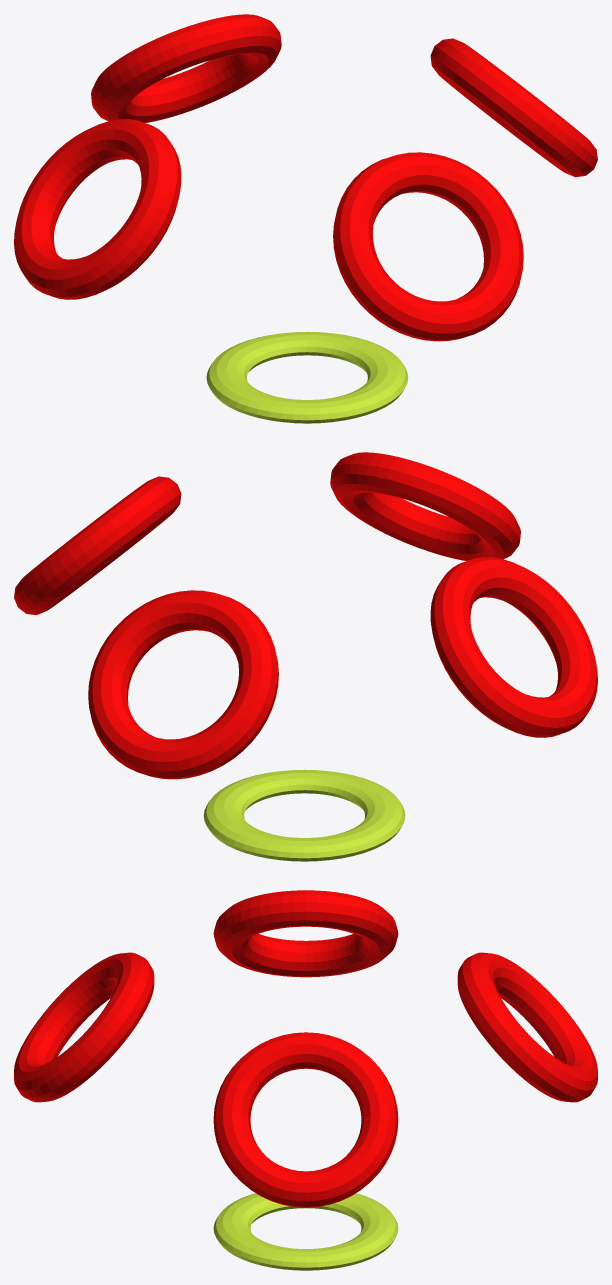
File: orbit_45_4.glb
3 views of the same model, one above another, from view 1: azimuth 30°, elevation 25°; view 2: azimuth 150°, elevation 25°; view 3: azimuth 270°, elevation 25° (orthographic). The views are drawn at different scales.
Visible parts, largest first — view 1: Torus.002, Torus.004, Torus.001, Torus, Torus.003; view 2: Torus.001, Torus.004, Torus.002, Torus, Torus.003; view 3: Torus.003, Torus.004, Torus.001, Torus.002, Torus.
Part boxes in pixels (box(x1,y1,x2,y2)): Torus.002: box(333, 152, 523, 341); Torus.004: box(14, 119, 181, 299); Torus.001: box(91, 14, 281, 122); Torus: box(206, 331, 408, 423); Torus.003: box(430, 38, 597, 177); Torus.001: box(88, 590, 278, 779); Torus.004: box(430, 557, 597, 737); Torus.002: box(330, 452, 520, 560); Torus: box(203, 769, 405, 861); Torus.003: box(14, 476, 181, 615); Torus.003: box(213, 1032, 398, 1207); Torus.004: box(213, 890, 398, 977); Torus.001: box(457, 952, 597, 1102); Torus.002: box(14, 952, 154, 1102); Torus: box(213, 1193, 398, 1270).
Bounding box in the file's own units: 1.96 × 1.02 × 1.97.
Materials: 5 (4 with a texture image).
